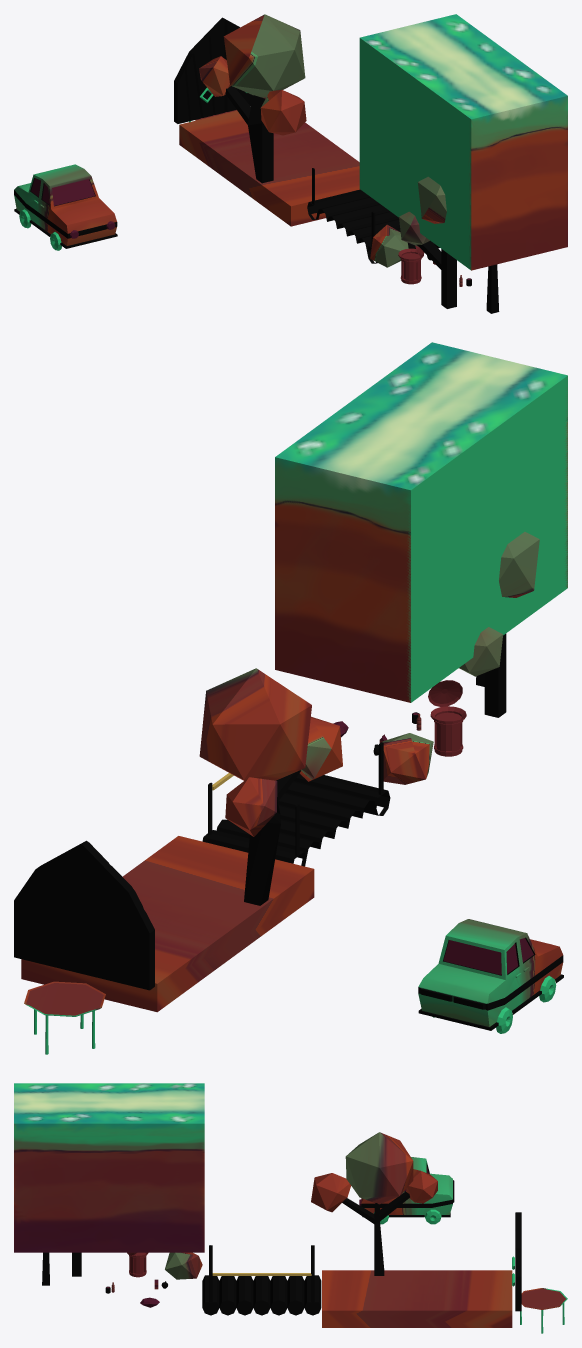
The model's file is road1.fbx.
3 renders of one model, top to bottom at view 1: azimuth 30°, elevation 25°; view 2: azimuth 150°, elevation 25°; view 3: azimuth 270°, elevation 25°, orthographic. The views are drawn at different scales.
Visible parts, largest first — view 1: RoadObstacle, RoadObstacle.001, Tree_04, Car, DoorObstacle, WalkableObstacle, Tree_01, Tree_02, Trash, Tree_03; view 2: RoadObstacle, RoadObstacle.001, Tree_04, DoorObstacle, Car, WalkableObstacle, Tree_01, JumpObstacle, Tree_02, Trash; view 3: RoadObstacle, RoadObstacle.001, Tree_04, WalkableObstacle, Car, JumpObstacle, Tree_02, DoorObstacle, Trash.
Boxes of the visible parts, x1,y1,x2,y2 form: RoadObstacle: (359, 14, 567, 270); RoadObstacle.001: (179, 110, 359, 226); Tree_04: (199, 14, 306, 183); Car: (14, 164, 117, 250); DoorObstacle: (174, 17, 252, 123); WalkableObstacle: (307, 168, 439, 263); Tree_01: (399, 176, 456, 308); Tree_02: (370, 224, 408, 267); Trash: (398, 245, 424, 284); Tree_03: (486, 264, 499, 313); RoadObstacle: (275, 342, 567, 702); RoadObstacle.001: (21, 836, 314, 1012); Tree_04: (199, 668, 342, 905); DoorObstacle: (14, 840, 154, 990); Car: (418, 919, 563, 1033); WalkableObstacle: (202, 742, 390, 866); Tree_01: (459, 532, 539, 717); JumpObstacle: (24, 981, 105, 1054); Tree_02: (382, 733, 433, 784); Trash: (428, 680, 466, 756); RoadObstacle: (14, 1083, 204, 1252); RoadObstacle.001: (322, 1270, 512, 1327); Tree_04: (311, 1132, 437, 1275); WalkableObstacle: (202, 1245, 321, 1315); Car: (359, 1157, 454, 1224); JumpObstacle: (520, 1288, 567, 1333); Tree_02: (165, 1252, 202, 1279); DoorObstacle: (512, 1212, 521, 1311); Trash: (127, 1252, 148, 1277).
Bounding box in the file's own units: 1549 × 1279 × 2906.
